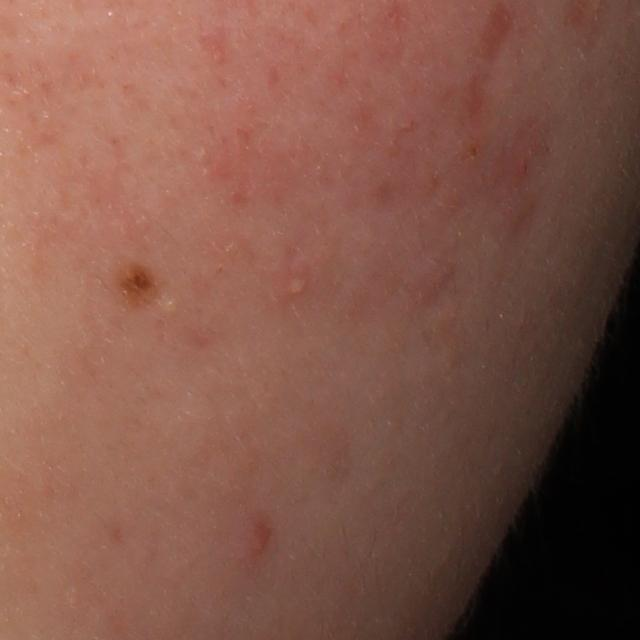nevus: (115, 256, 159, 316)
papule: (245, 522, 273, 560)
pustule: (283, 268, 312, 304)
